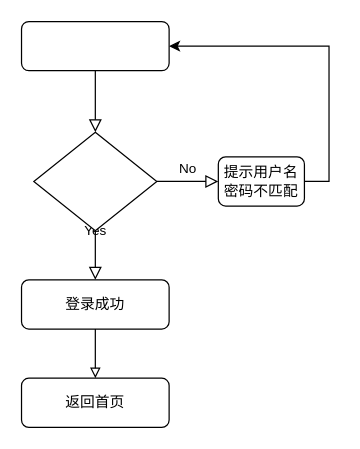
Image size: 360x449. Some labels were removed from this diagram. Each missing label, with the box of its shape:
提交用户名、密码: (20, 20, 169, 71)
用户名、密码匹配？: (33, 131, 157, 231)
